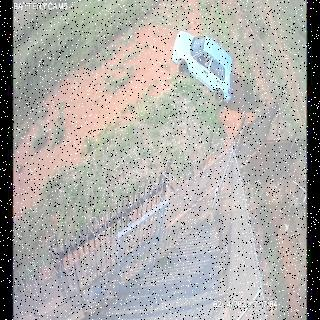car: (171, 29, 233, 103)
